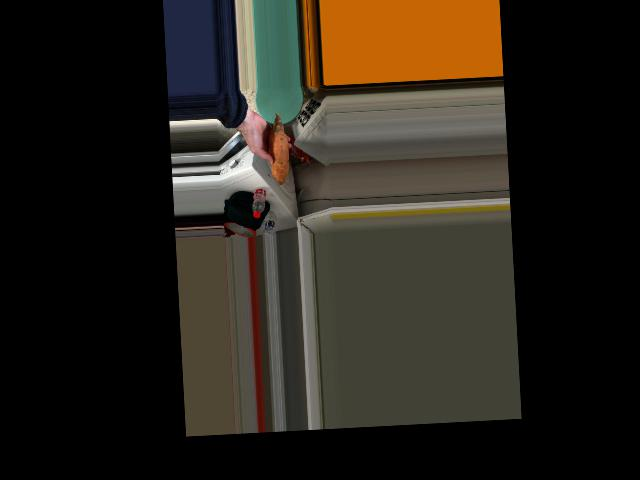sweet_potato: (268, 123, 286, 175)
